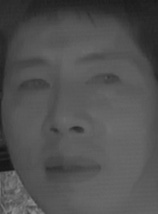eye: (85, 67, 126, 94), (15, 71, 55, 96)
mouth: (41, 144, 101, 187)
